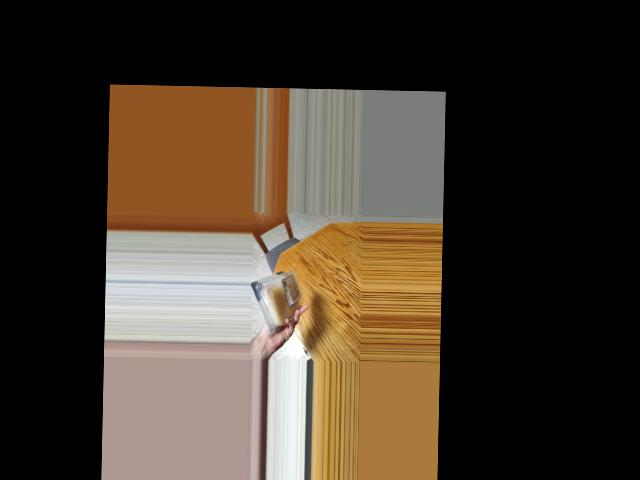cheese: (254, 270, 302, 327)
